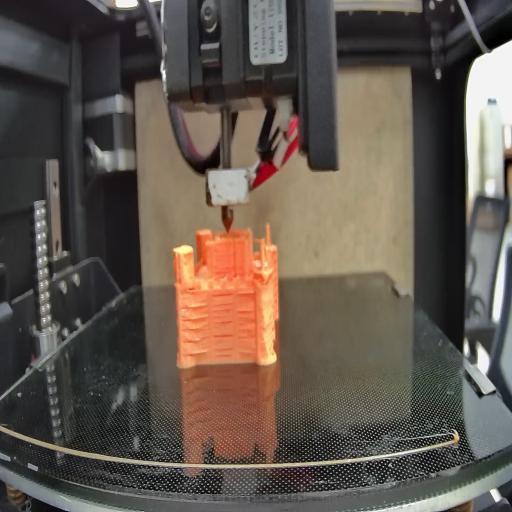cracks: (180, 304, 207, 352), (214, 306, 233, 357), (238, 306, 257, 354), (234, 286, 257, 300), (212, 289, 233, 302), (184, 280, 201, 294)
